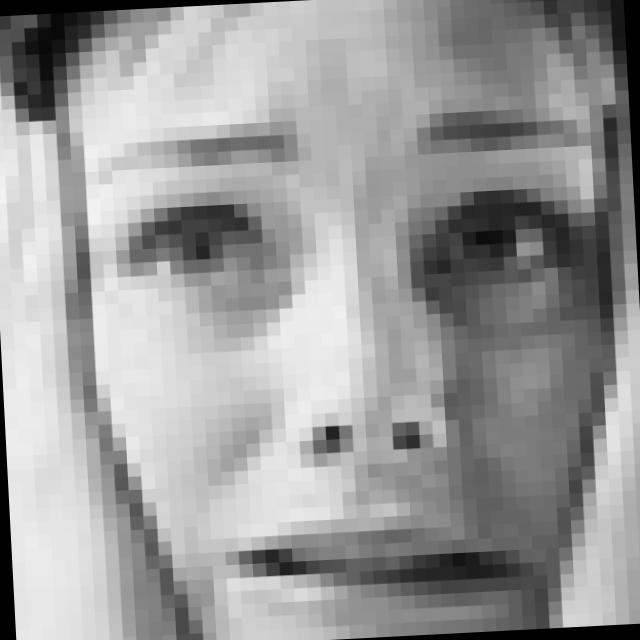fear: (83, 93, 623, 640)
